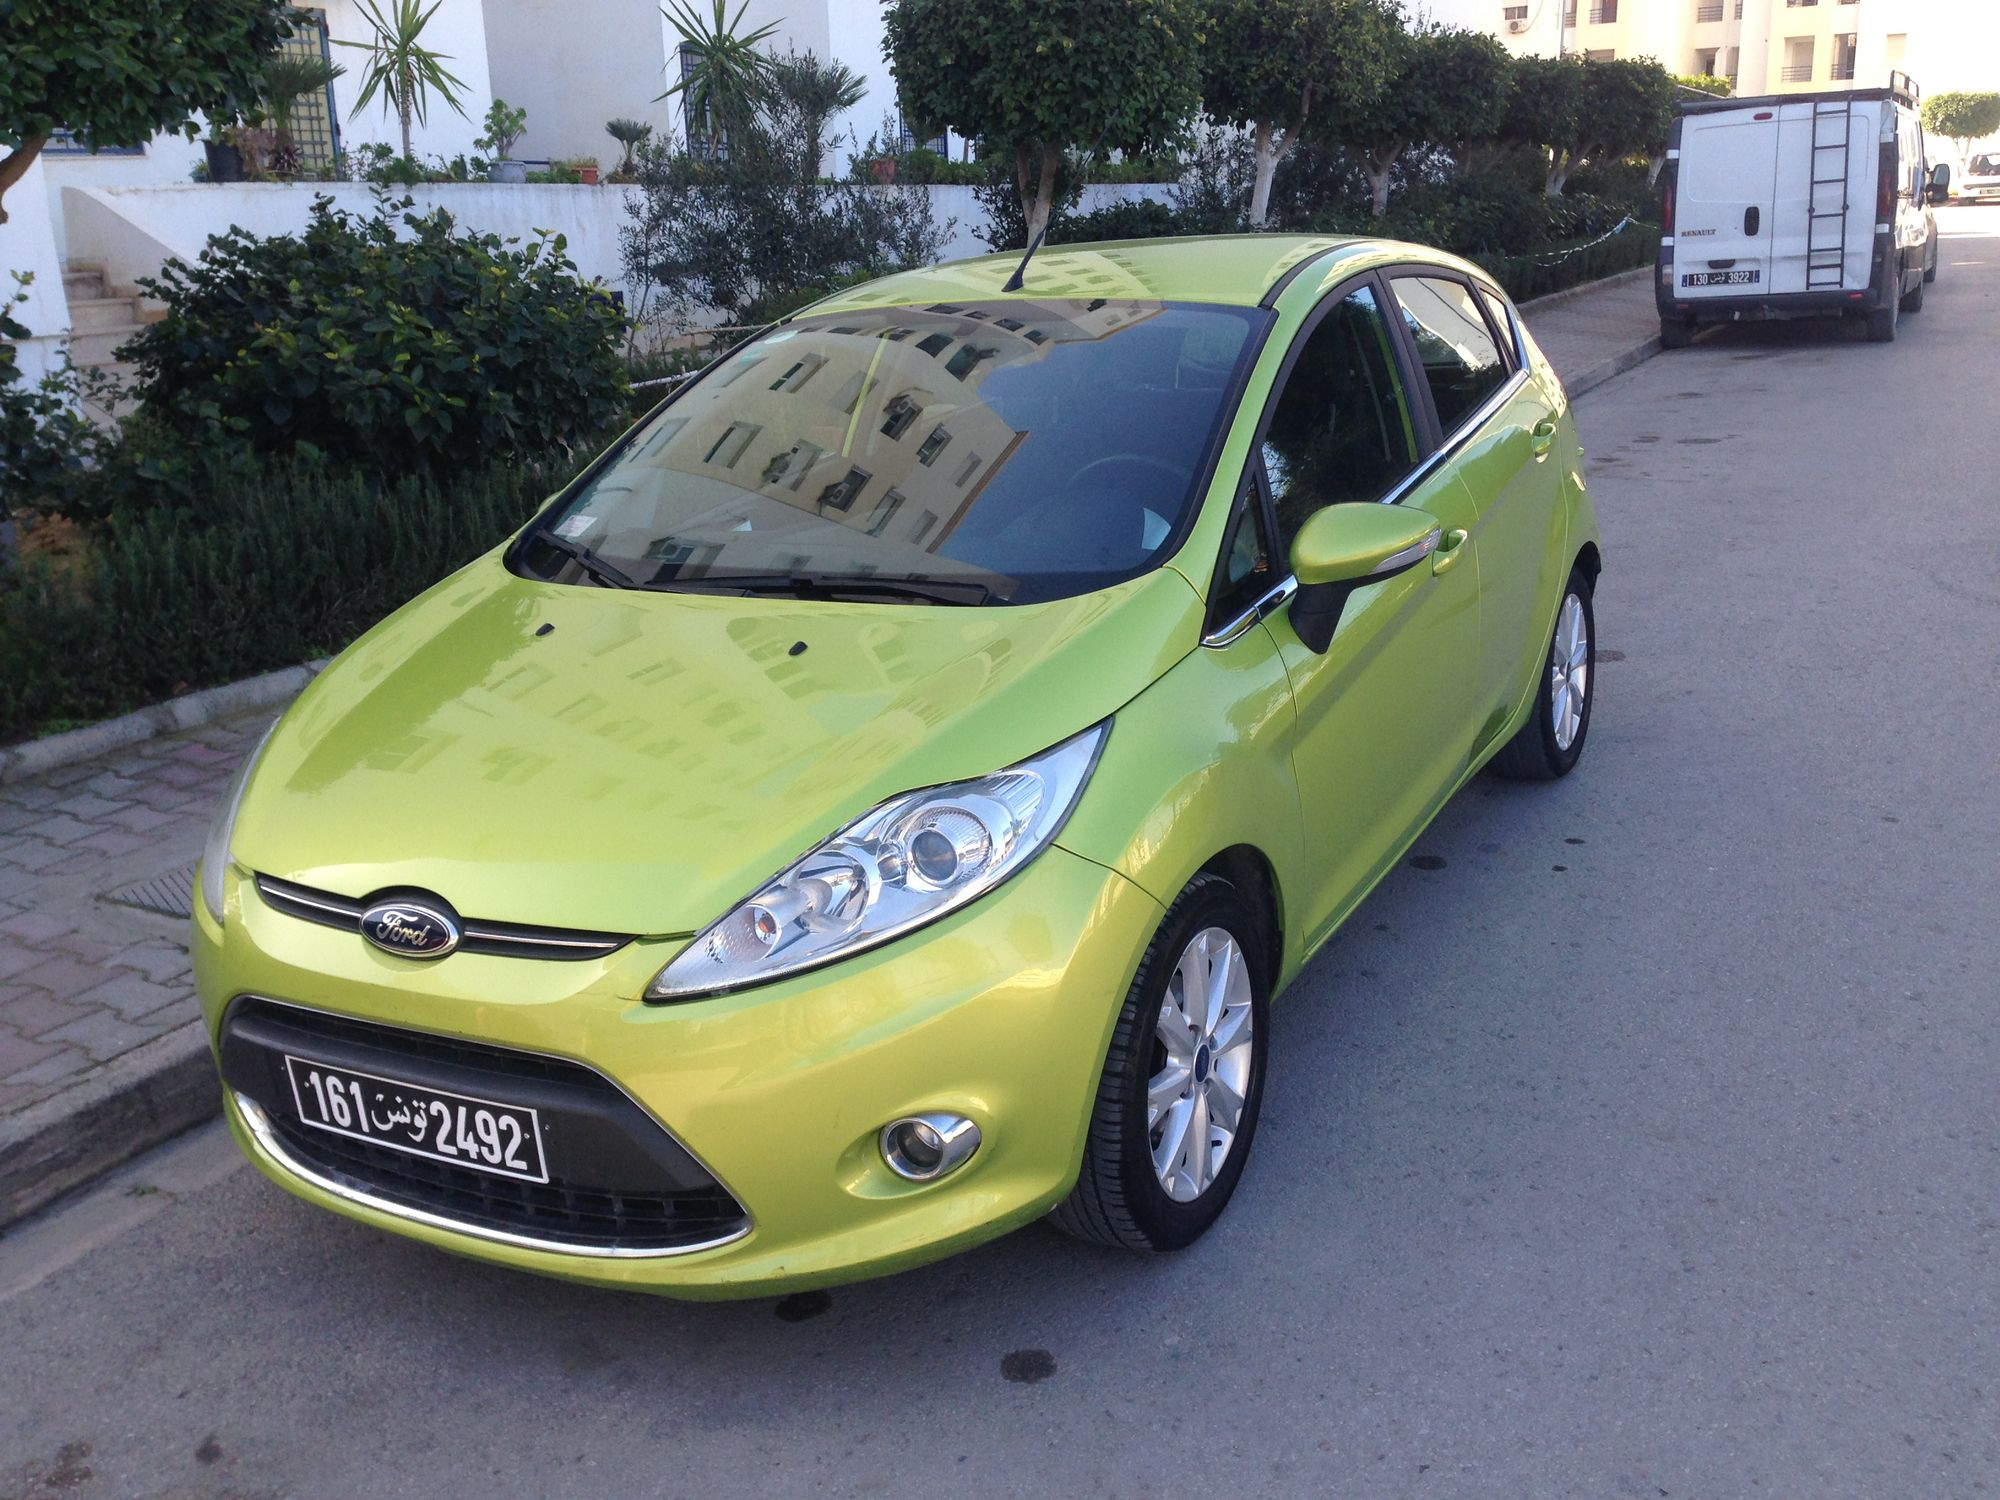LP: (279, 1052, 554, 1185)
